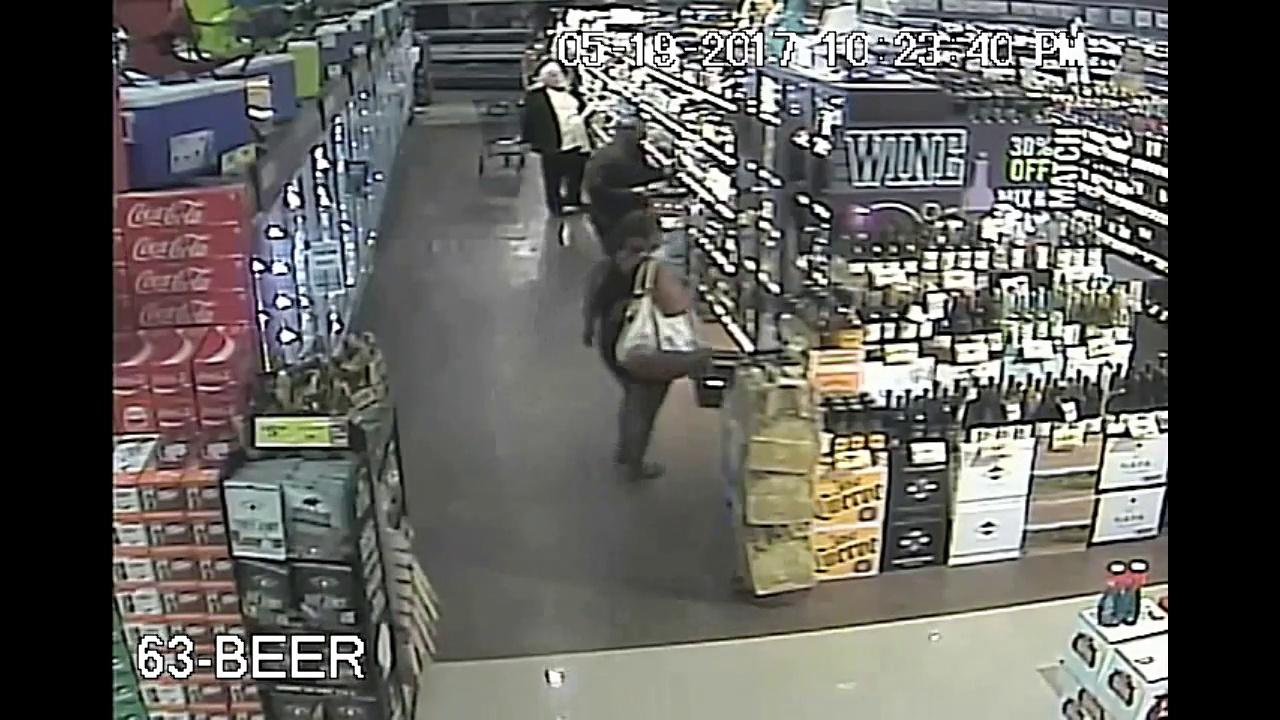Customer-Bagpack: (607, 291, 710, 375)
Product: (650, 168, 676, 190)
Product-Picked: (576, 103, 696, 334)
Regular: (559, 205, 723, 485), (516, 50, 594, 195)
